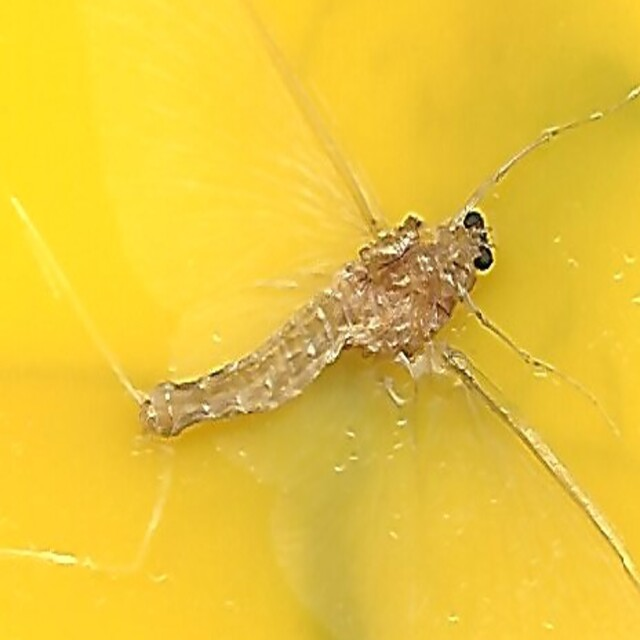Ephemeroptera: (138, 192, 502, 448)
